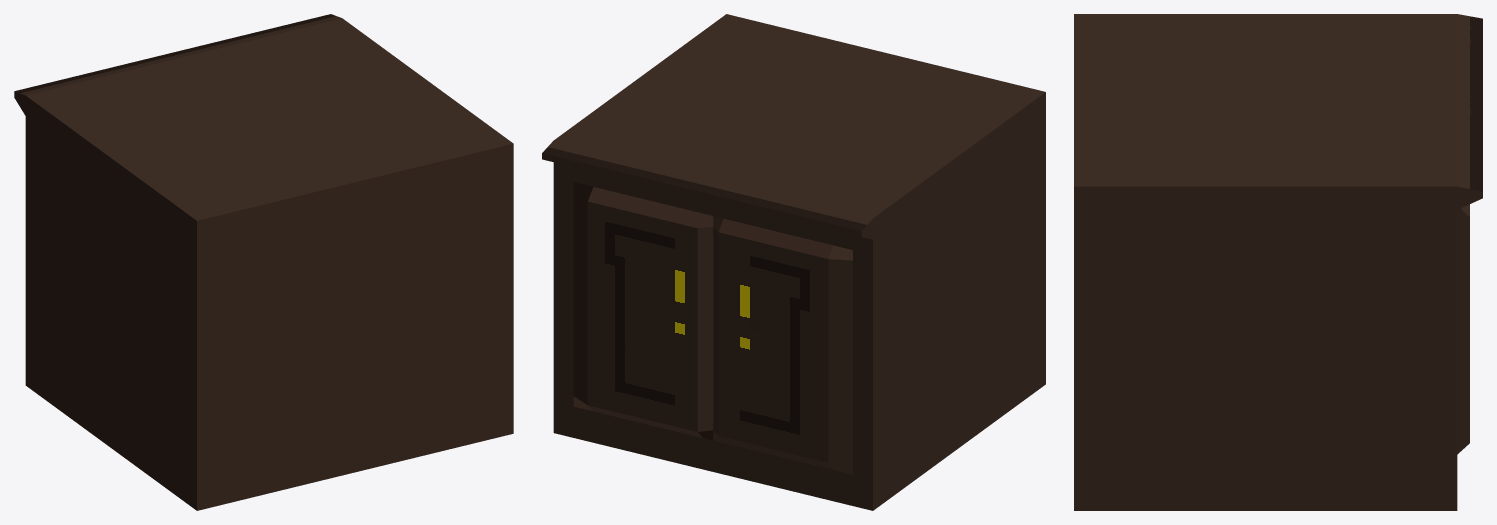
Rendered from Bottom_furniture.gltf.
The picture shows the model from 3 angles, left to right: view 1: azimuth 30°, elevation 25°; view 2: azimuth 150°, elevation 25°; view 3: azimuth 270°, elevation 25°; orthographic projection. The views are drawn at different scales.
Parts seen in each view (by area): view 1: cuboid; view 2: cuboid; view 3: cuboid.
Boxes of the visible parts, x1,y1,x2,y2 form: cuboid: [14, 14, 513, 510]; cuboid: [542, 14, 1045, 510]; cuboid: [1074, 14, 1482, 510].
Size of the model in its own units: 1 by 0.875 by 1.
1 material, 1 textured.
